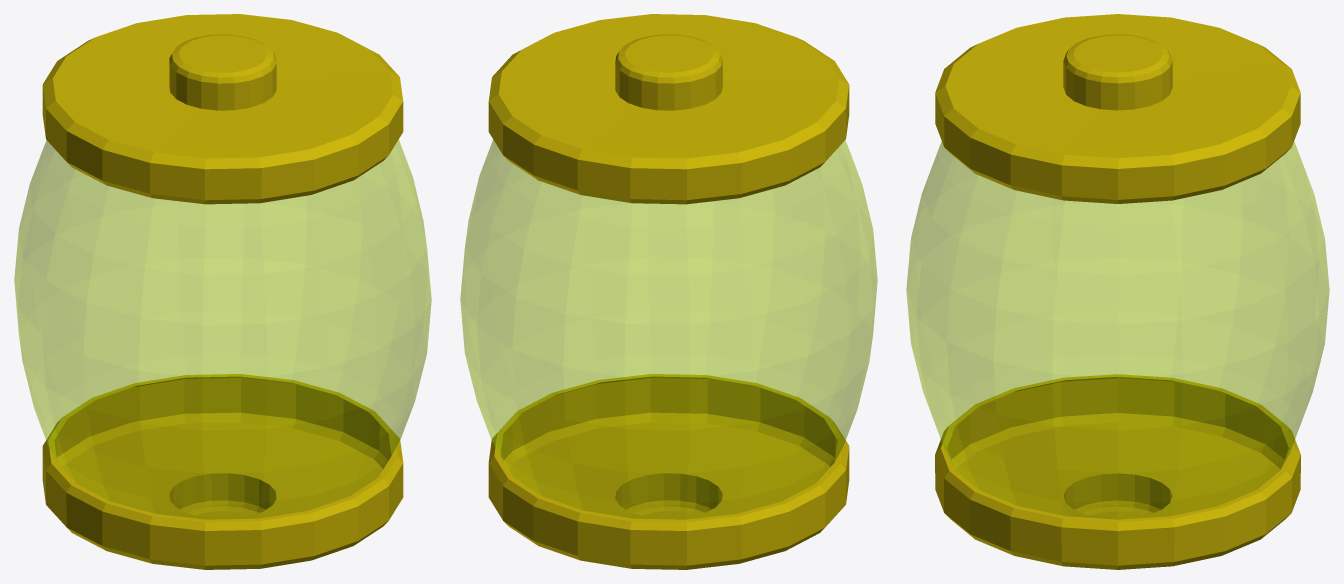
Rendered from CapsuleBooster.fbx.
3 renders of one model, left to right at view 1: azimuth 30°, elevation 25°; view 2: azimuth 150°, elevation 25°; view 3: azimuth 270°, elevation 25°, orthographic.
Visible parts, largest first — view 1: pCylinder1; view 2: pCylinder1; view 3: pCylinder1.
Part boxes in pixels (box(x1,y1,x2,y2)): pCylinder1: box(14, 14, 431, 569); pCylinder1: box(460, 14, 877, 569); pCylinder1: box(906, 14, 1329, 569).
Bounding box in the file's own units: 0.0223 × 0.028 × 0.0226.
